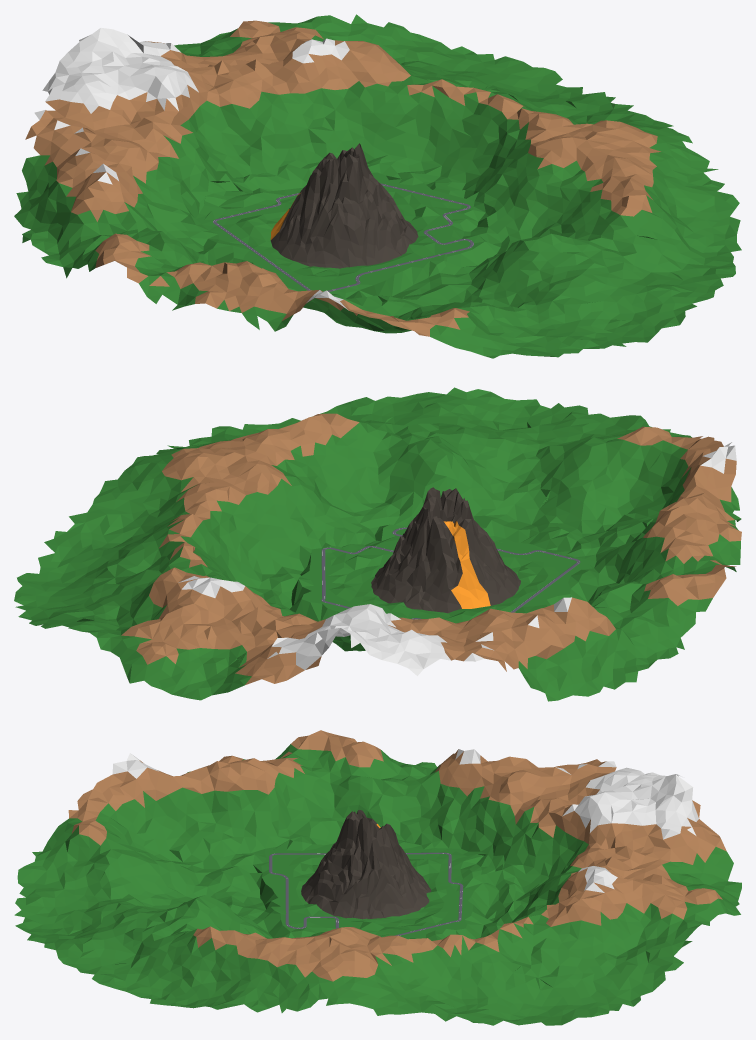
The model's file is Volcano3.fbx.
3 views of the same model, one above another, from view 1: azimuth 30°, elevation 25°; view 2: azimuth 150°, elevation 25°; view 3: azimuth 270°, elevation 25° (orthographic). The views are drawn at different scales.
Visible parts, largest first — view 1: Landscape.002, Landscape.001, Plane.003; view 2: Landscape.002, Landscape.001, Plane.003; view 3: Landscape.002, Landscape.001, Plane.003.
Part boxes in pixels (x1=…): Landscape.002: x1=14, y1=14, x2=741, y2=358; Landscape.001: x1=270, y1=143, x2=418, y2=268; Plane.003: x1=213, y1=183, x2=473, y2=291; Landscape.002: x1=14, y1=387, x2=741, y2=701; Landscape.001: x1=371, y1=487, x2=520, y2=613; Plane.003: x1=321, y1=527, x2=580, y2=619; Landscape.002: x1=14, y1=730, x2=741, y2=1025; Landscape.001: x1=301, y1=810, x2=431, y2=919; Plane.003: x1=269, y1=852, x2=463, y2=935.
Bounding box in the file's own units: 4580 × 3889 × 724.
